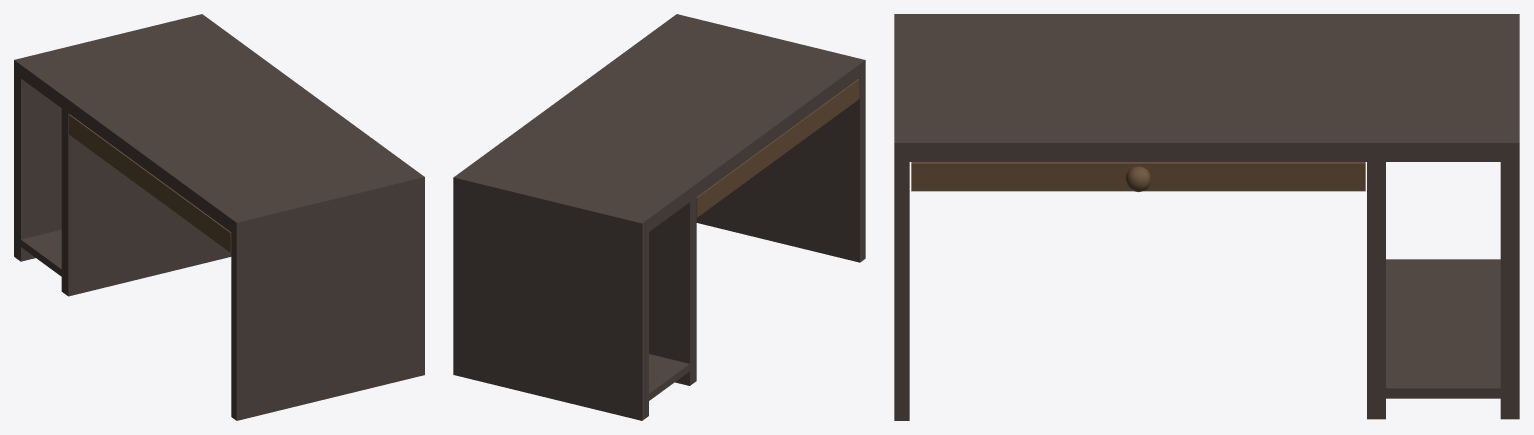
File: desktop.fbx
3 renders of one model, left to right at view 1: azimuth 30°, elevation 25°; view 2: azimuth 150°, elevation 25°; view 3: azimuth 270°, elevation 25°, orthographic. The views are drawn at different scales.
Parts seen in each view (by area): view 1: Bureau, Tiroir; view 2: Bureau, Tiroir; view 3: Bureau, Tiroir.
Part boxes in pixels (left/top/right/bottom): Bureau: left=14, top=14, right=424, bottom=420; Tiroir: left=69, top=114, right=231, bottom=252; Bureau: left=453, top=14, right=865, bottom=420; Tiroir: left=696, top=79, right=859, bottom=217; Bureau: left=894, top=14, right=1519, bottom=420; Tiroir: left=911, top=162, right=1365, bottom=192.
Size of the model in its own units: 106 by 101 by 205.
